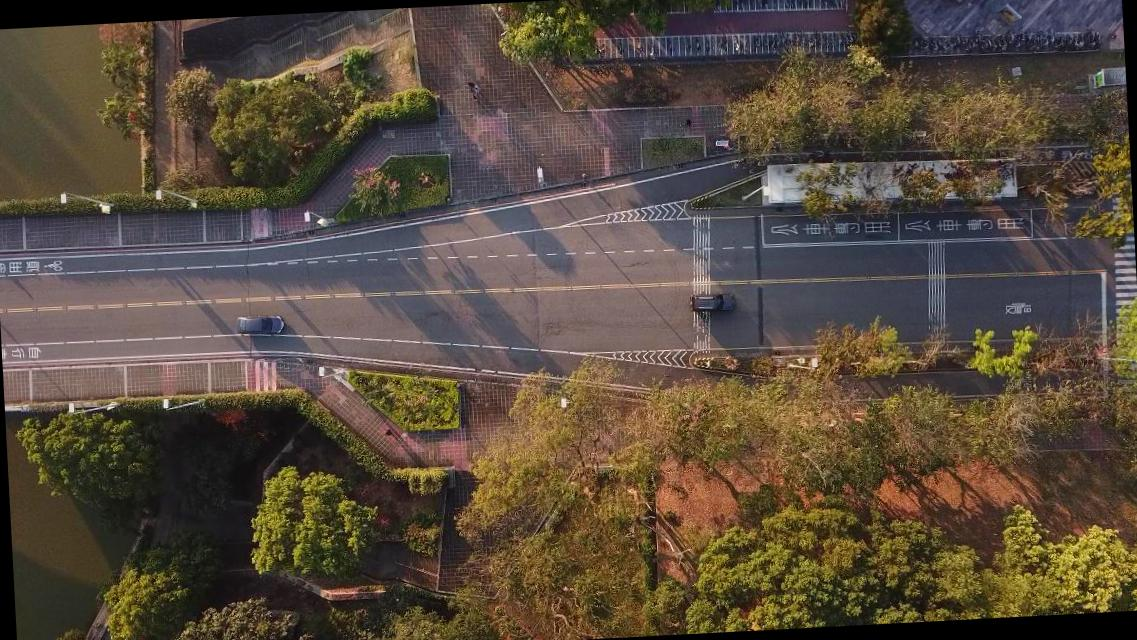vehicle: (236, 314, 285, 336), (689, 294, 735, 314)
